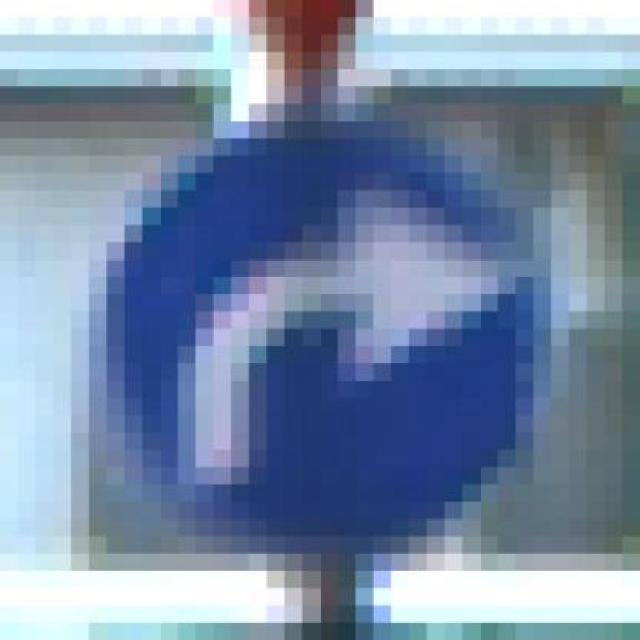Turn right ahead: (89, 86, 569, 571)
